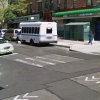Bus: (15, 18, 69, 50)
